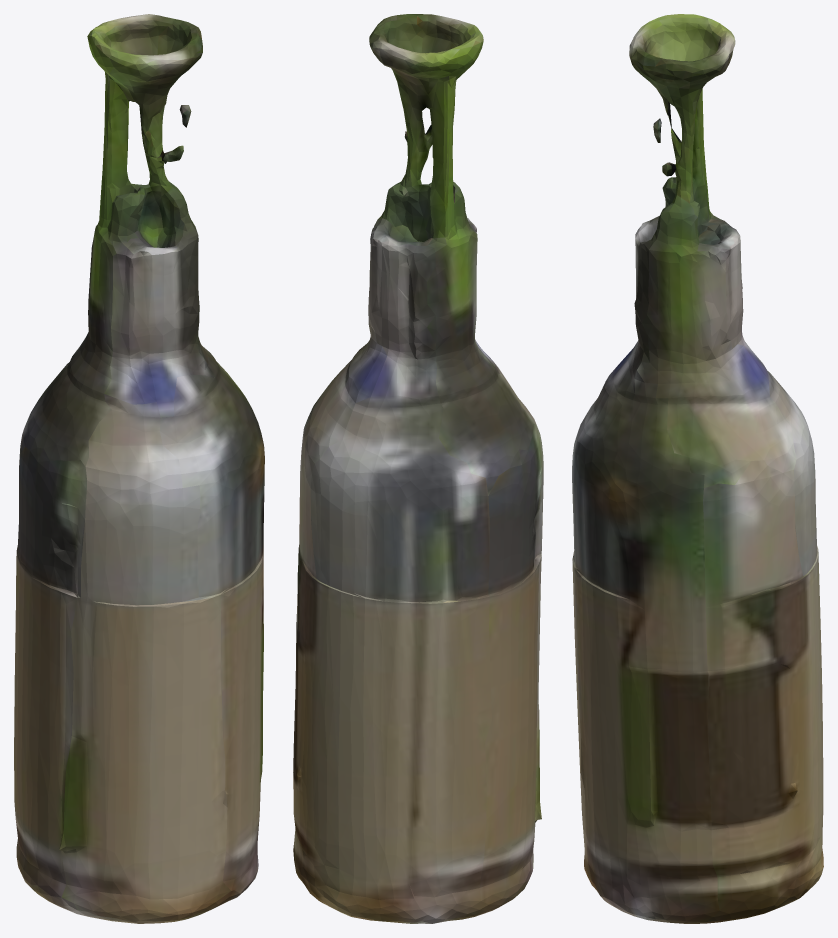
The picture shows the model from 3 angles, left to right: view 1: azimuth 30°, elevation 25°; view 2: azimuth 150°, elevation 25°; view 3: azimuth 270°, elevation 25°; orthographic projection.
Parts seen in each view (by area): view 1: world; view 2: world; view 3: world.
Part boxes in pixels (x1,y1,x2,y2): world: (14,14,264,923); world: (293,14,543,923); world: (572,14,823,923).
Size of the model in its own units: 0.0557 by 0.2118 by 0.0572.
1 material, 1 textured.
